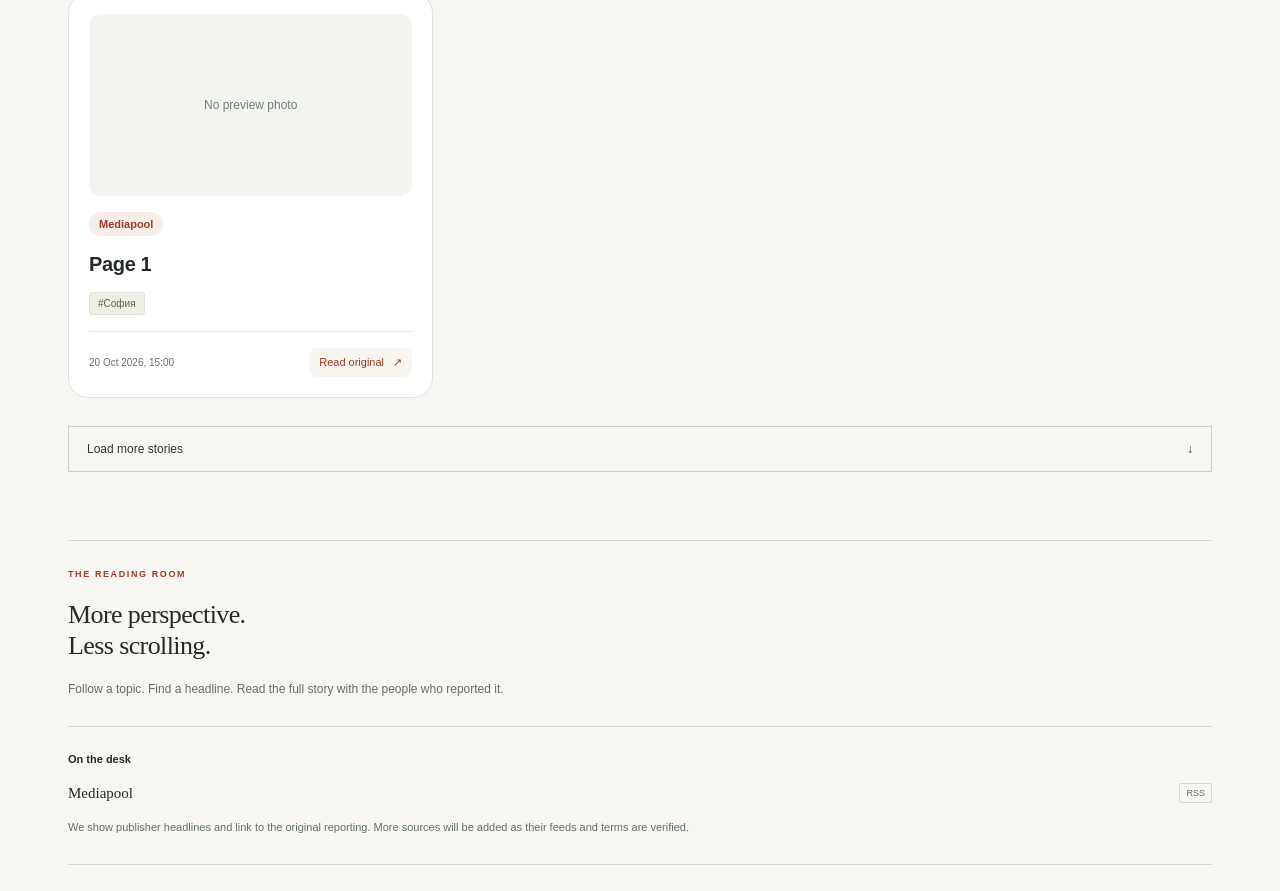
it: news feed › ignores a late pagination response after filter (failed: false)
(page scrolled)
Click the button "Load more stories ↓": (135, 449) [68,426,1212,472]
(page scrolled)
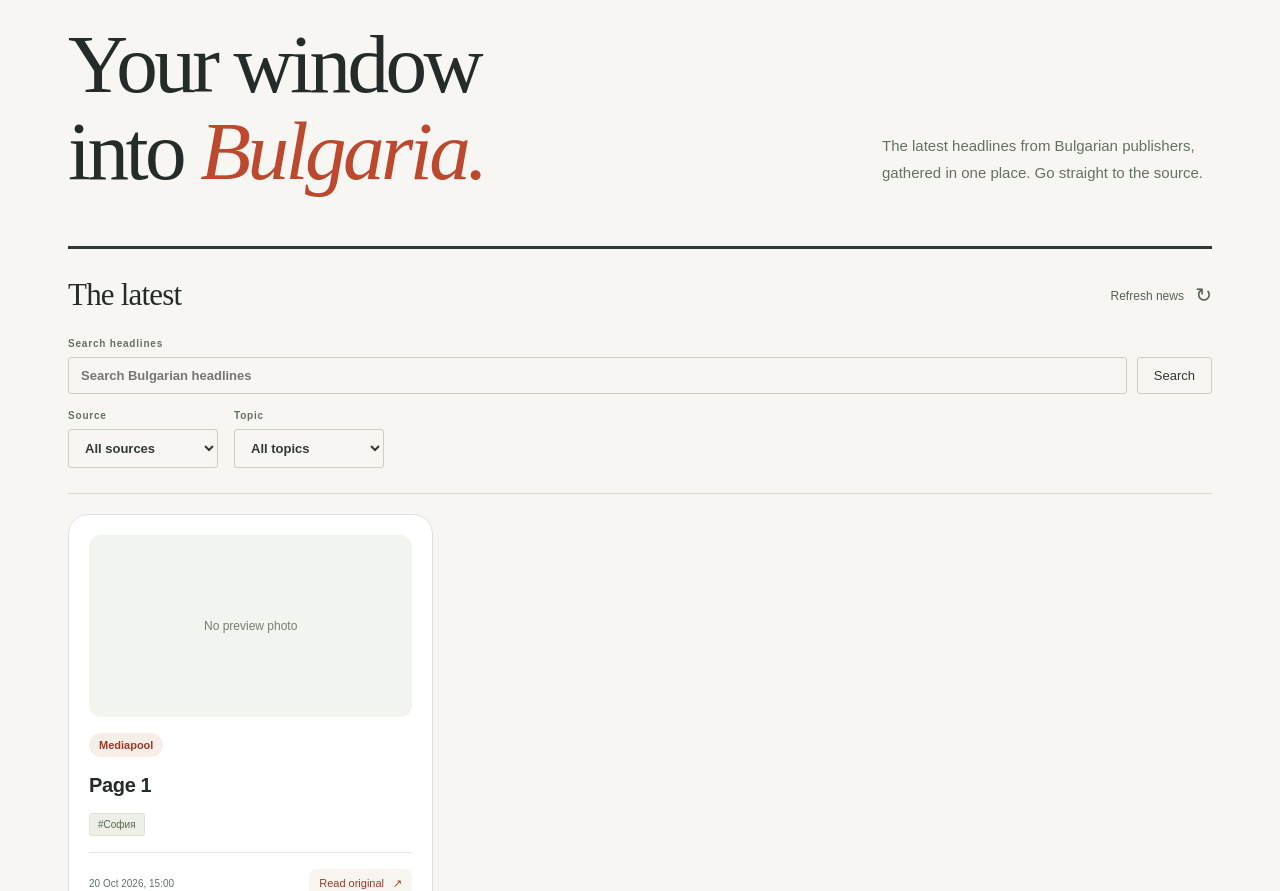
Select "София" in the dropdown labelled "Topic": (309, 449) [234,429,384,468]
(page scrolled)
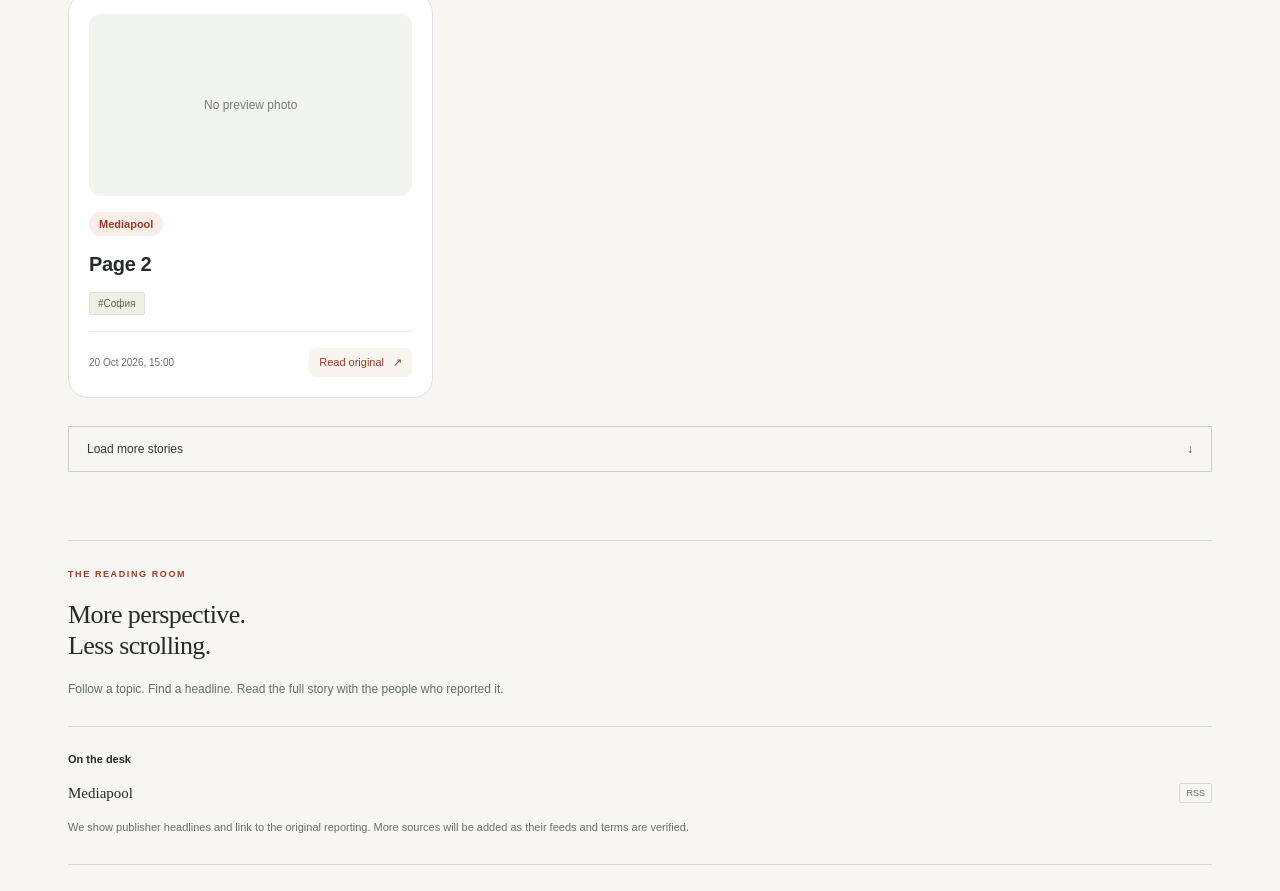
Expected: the link "Page 2" is shown, [89,253,151,275]
Expected: the button "Load more stories ↓" is enabled, [68,426,1212,472]
